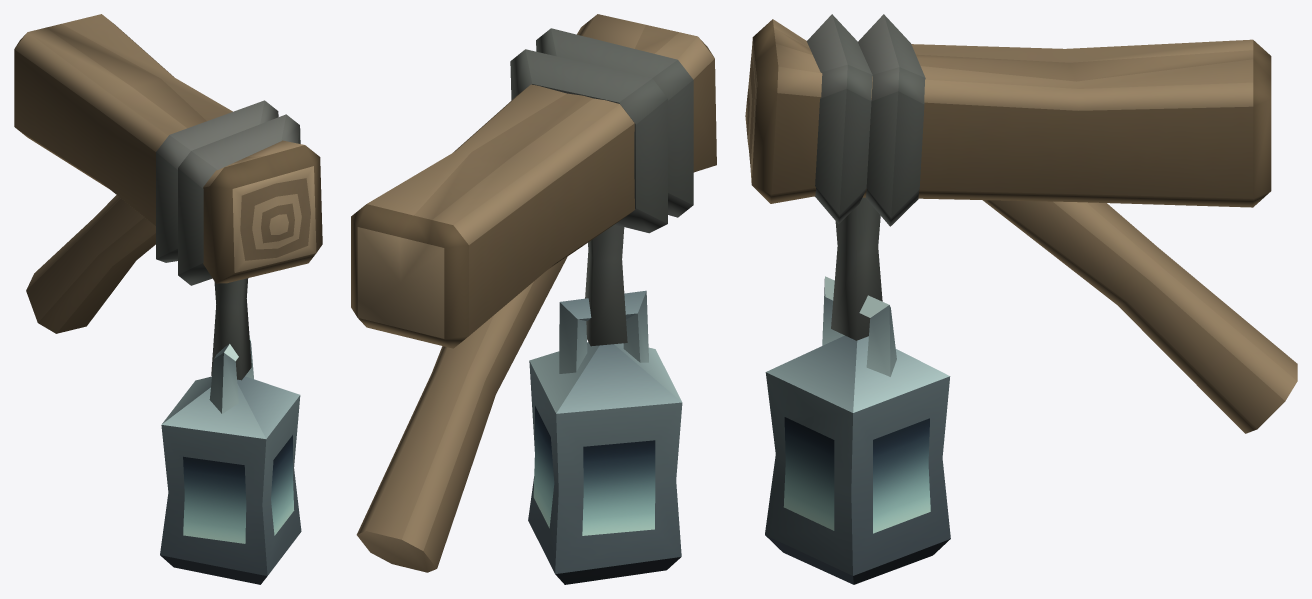
The model's file is lantern_wall_maunted.fbx.
The picture shows the model from 3 angles, left to right: view 1: azimuth 30°, elevation 25°; view 2: azimuth 150°, elevation 25°; view 3: azimuth 270°, elevation 25°; orthographic projection. The views are drawn at different scales.
Parts seen in each view (by area): view 1: lantern_wall_maunted; view 2: lantern_wall_maunted; view 3: lantern_wall_maunted.
Part boxes in pixels (x1,y1,x2,y2): lantern_wall_maunted: [14, 14, 322, 584]; lantern_wall_maunted: [351, 14, 716, 584]; lantern_wall_maunted: [745, 14, 1297, 584].
Size of the model in its own units: 41.09 by 126 by 122.
